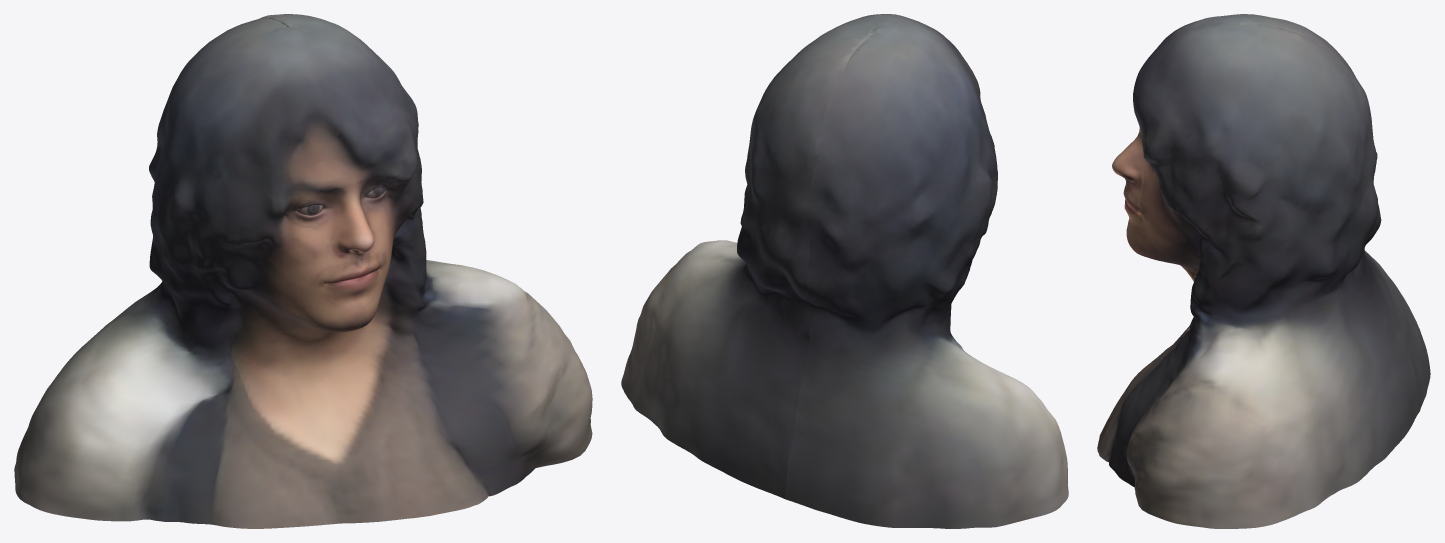
Rendered from OscarLopez.gltf.
The picture shows the model from 3 angles, left to right: view 1: azimuth 30°, elevation 25°; view 2: azimuth 150°, elevation 25°; view 3: azimuth 270°, elevation 25°; orthographic projection. The views are drawn at different scales.
Parts seen in each view (by area): view 1: OscarLopez; view 2: OscarLopez; view 3: OscarLopez.
Boxes of the visible parts, left/top/right/bottom form: OscarLopez: left=14, top=14, right=592, bottom=528; OscarLopez: left=621, top=14, right=1068, bottom=528; OscarLopez: left=1097, top=14, right=1430, bottom=528.
Bounding box in the file's own units: 9.87 × 8.19 × 6.35.
Materials: 1 (1 with a texture image).
